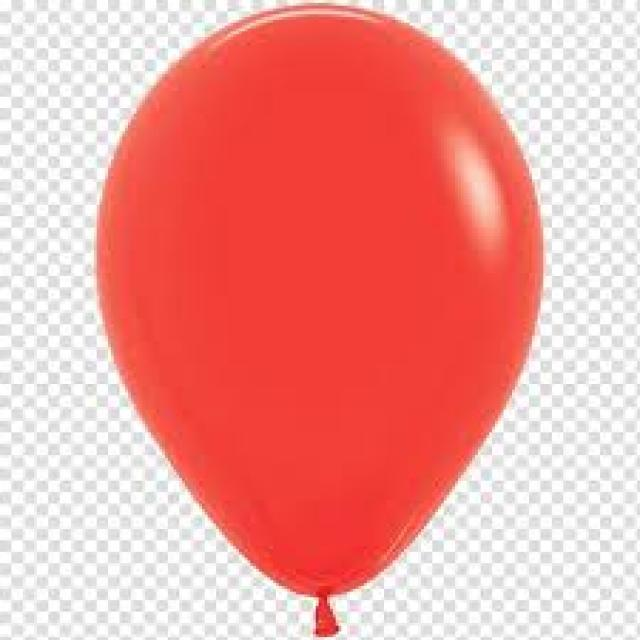red: (93, 2, 545, 637)
